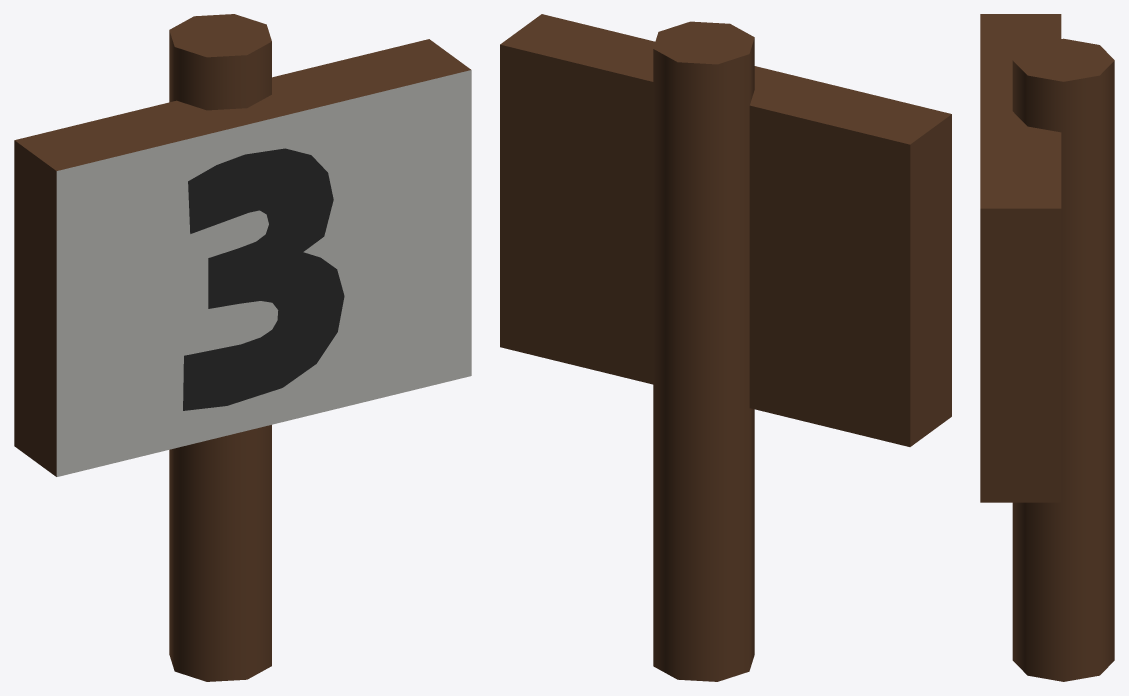
Rendered from plate_3.fbx.
3 renders of one model, left to right at view 1: azimuth 30°, elevation 25°; view 2: azimuth 150°, elevation 25°; view 3: azimuth 270°, elevation 25°, orthographic. The views are drawn at different scales.
Parts seen in each view (by area): view 1: plate_3; view 2: plate_3; view 3: plate_3.
Boxes of the visible parts, bbox=[...] form: plate_3: bbox=[14, 14, 471, 681]; plate_3: bbox=[500, 14, 951, 681]; plate_3: bbox=[980, 14, 1114, 681].
Bounding box in the file's own units: 118 × 169 × 34.44.
